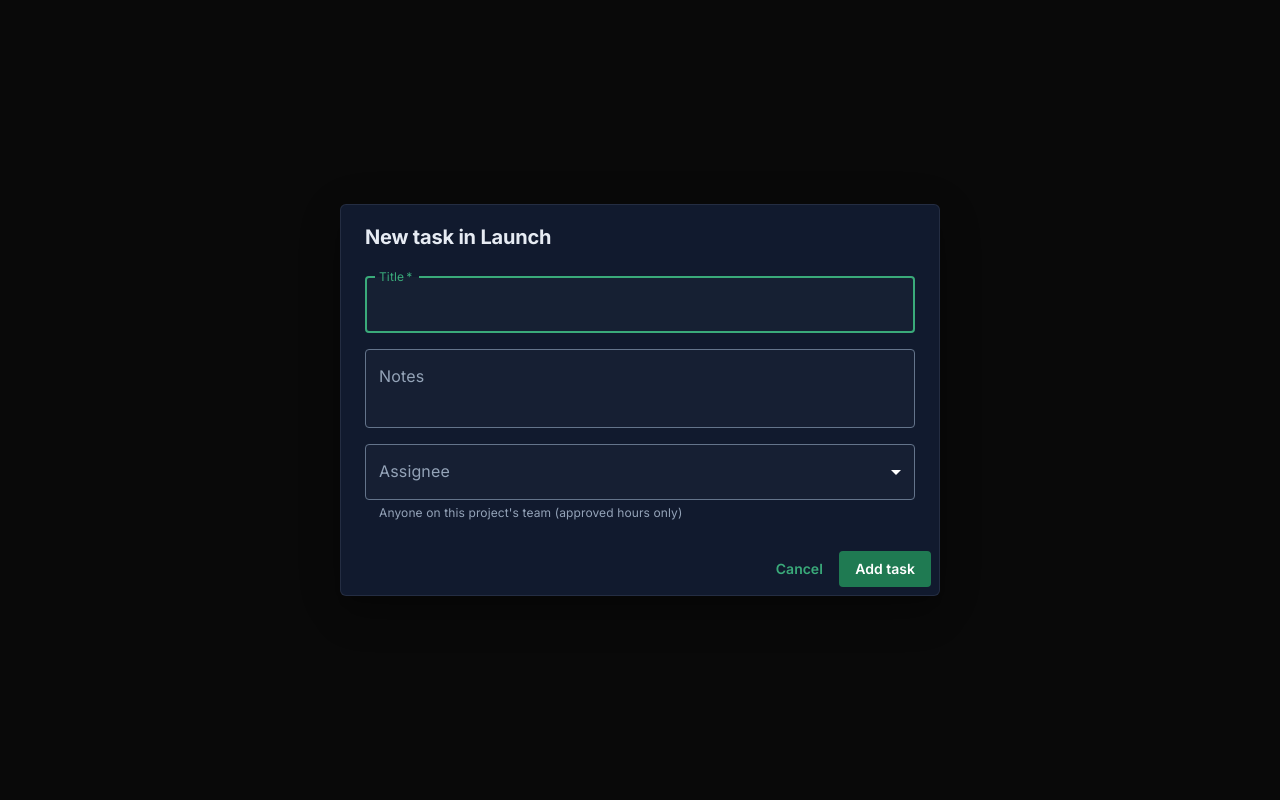
Test case: TaskDialog › requires a title before saving
What coordinates should you click on to do the following:
click the button "Add task"
I would click on:
 (885, 569)
Its box is [839,551,931,587].
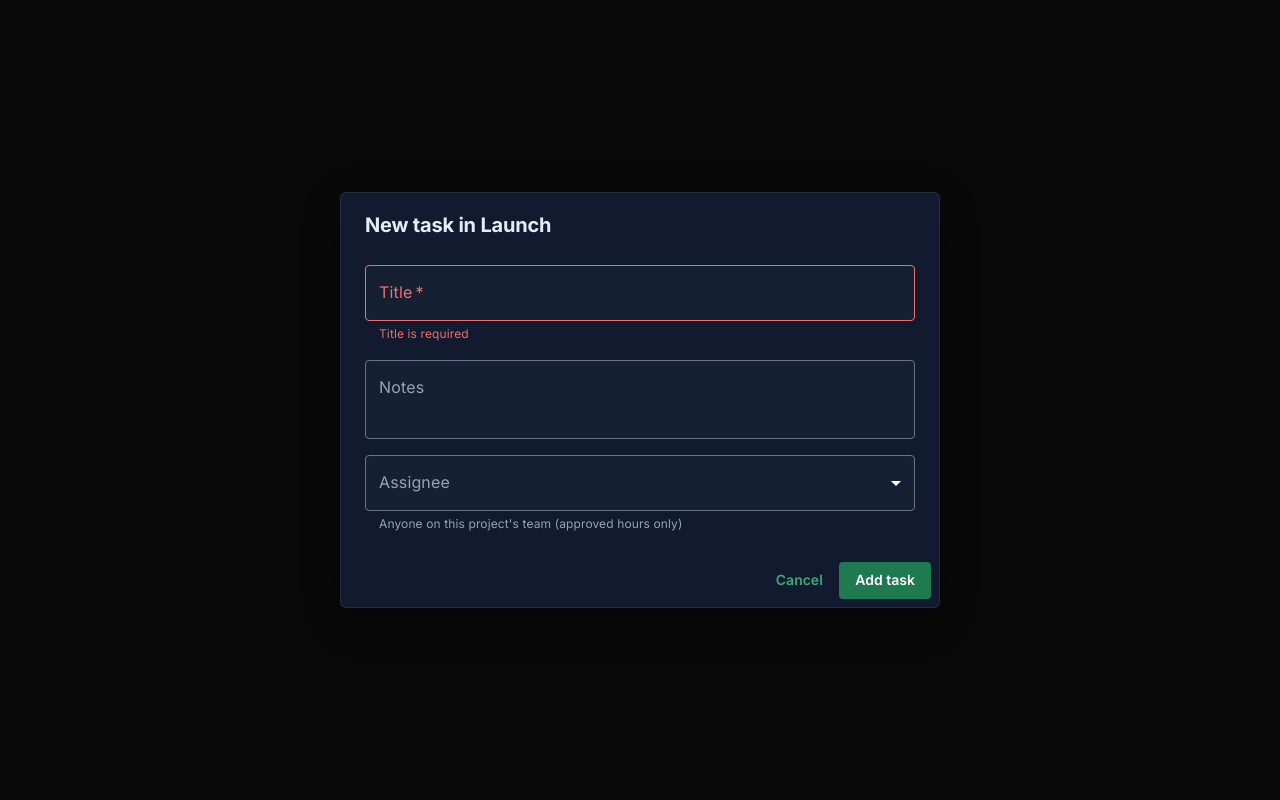
expect the text "Title is required" is shown: met, box [379,326,469,341]
